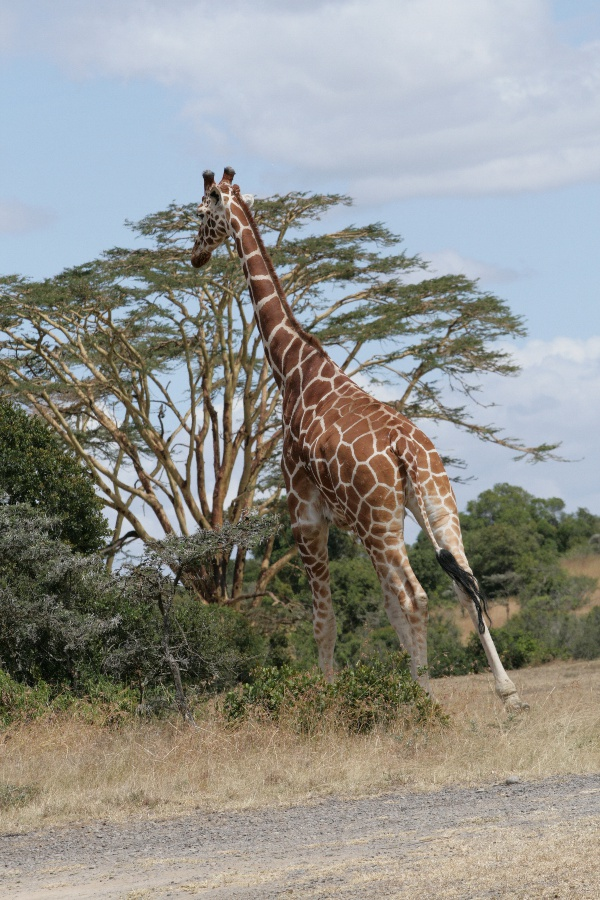giraffe: (175, 152, 534, 726)
